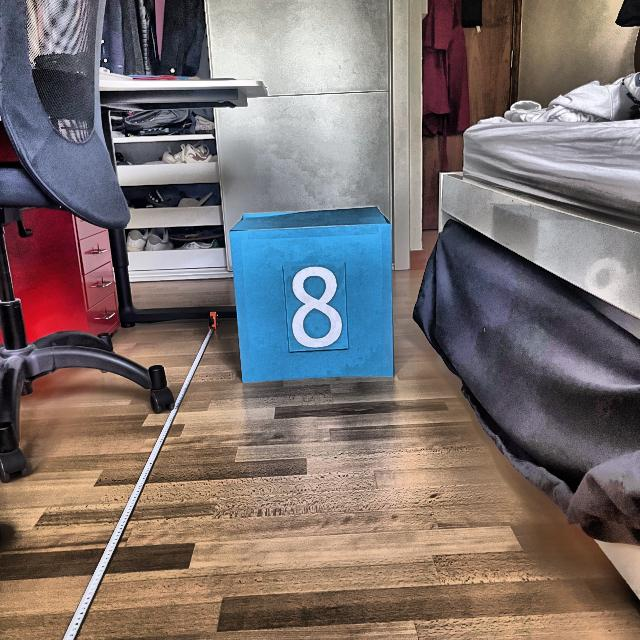blue box: (228, 202, 402, 384)
eight: (290, 264, 344, 350)
